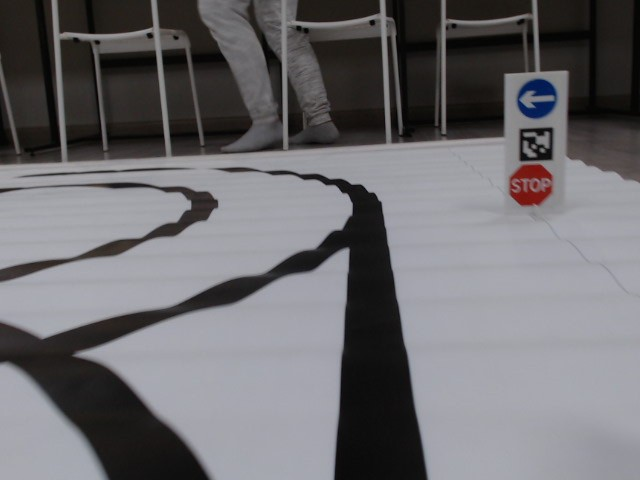Stop: (509, 165, 552, 205)
